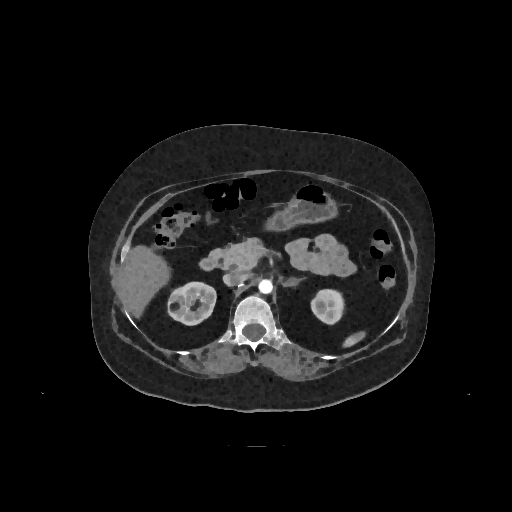Lesion: (165, 300, 184, 314)
